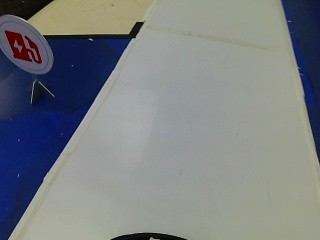battery: (0, 12, 58, 71)
